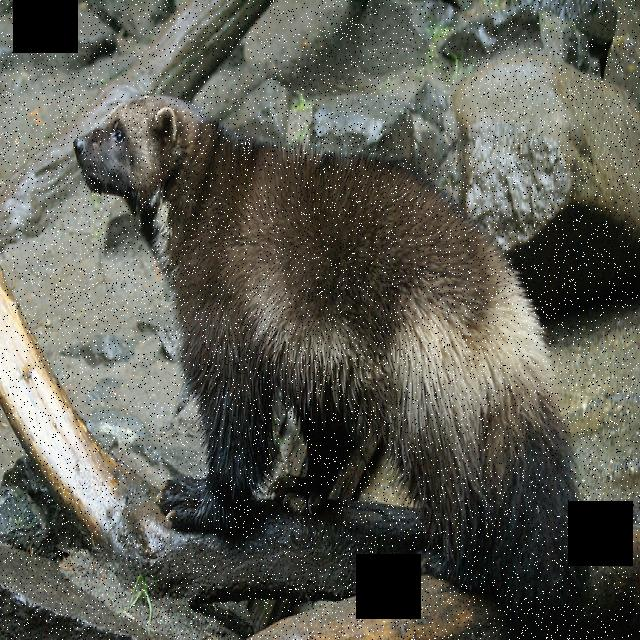Bear: (66, 87, 601, 624)
